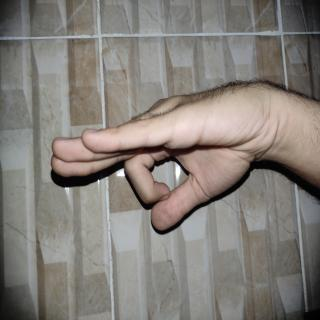Space: (55, 62, 188, 320)
